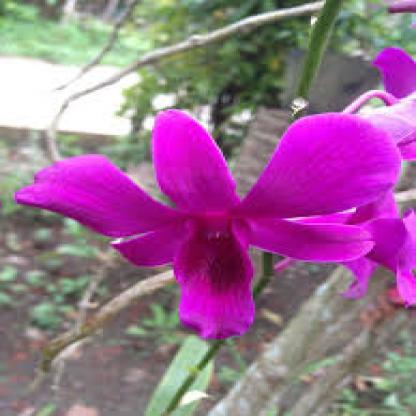ANGGREK: (18, 29, 406, 384)
